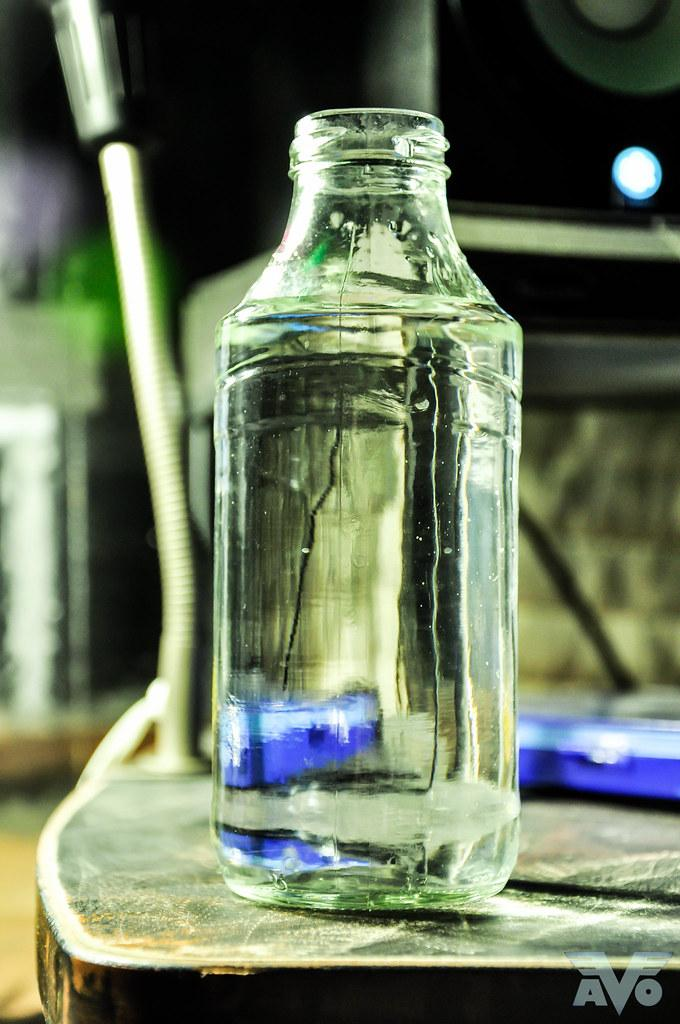bottle: (209, 106, 525, 913)
